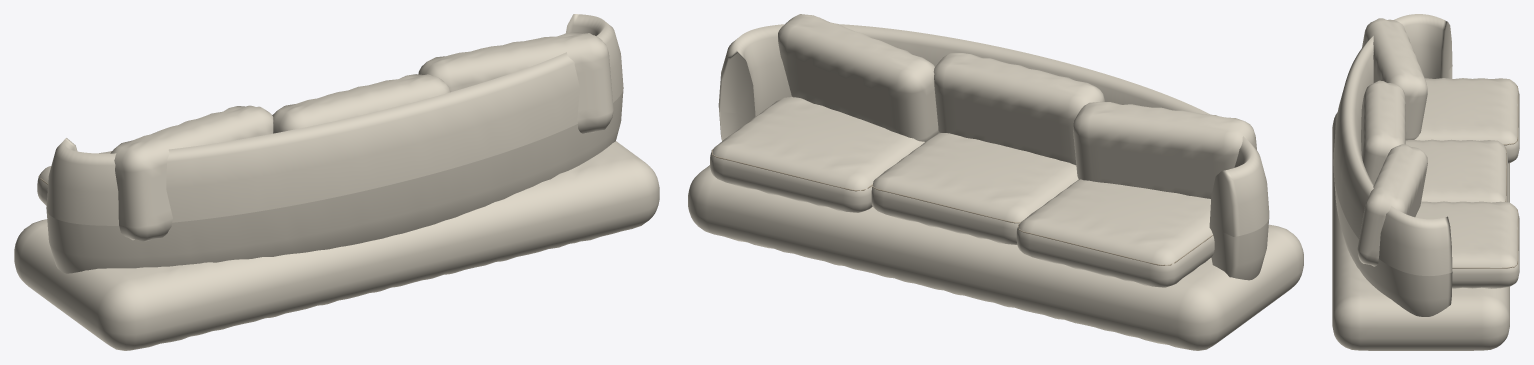
The model's file is lounge-cloud-sofa.glb.
3 views of the same model, side by side, from view 1: azimuth 30°, elevation 25°; view 2: azimuth 150°, elevation 25°; view 3: azimuth 270°, elevation 25° (orthographic). The views are drawn at different scales.
Parts seen in each view (by area): view 1: linen_surfaces; view 2: linen_surfaces, welt_surfaces; view 3: linen_surfaces, welt_surfaces.
Part boxes in pixels (x1,y1,x2,y2): linen_surfaces: (14, 14, 659, 350); linen_surfaces: (688, 14, 1303, 350); welt_surfaces: (711, 149, 1213, 265); linen_surfaces: (1332, 14, 1519, 350); welt_surfaces: (1452, 86, 1518, 268).
Size of the model in its own units: 2.43 by 0.8587 by 0.885.
